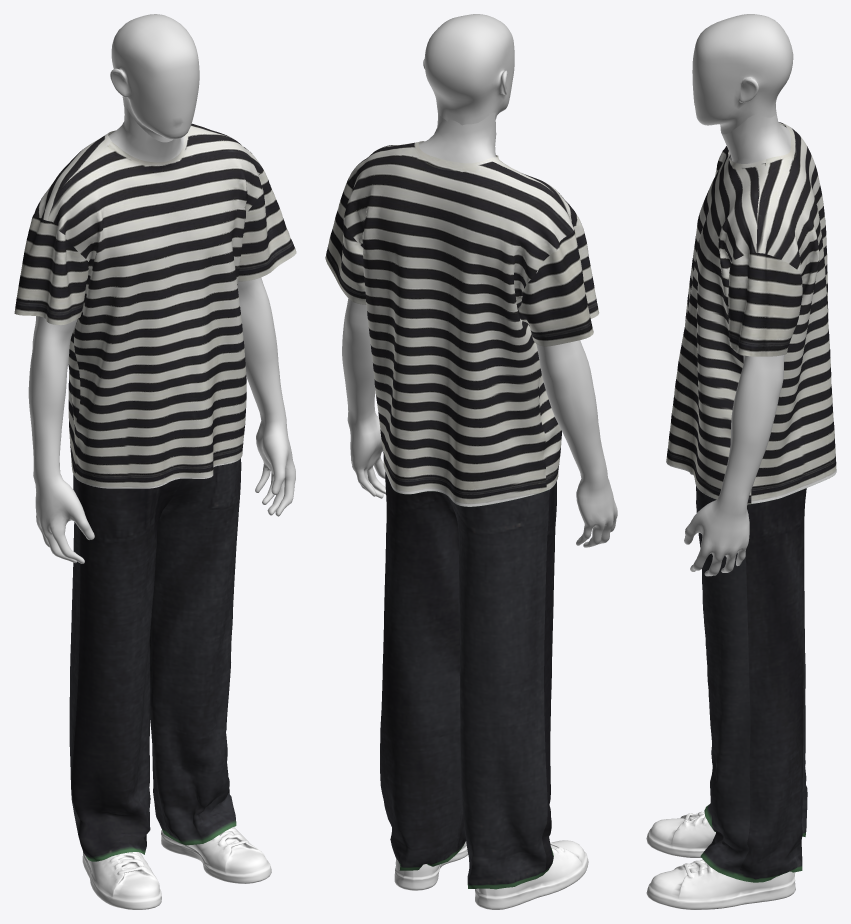
3 renders of one model, left to right at view 1: azimuth 30°, elevation 25°; view 2: azimuth 150°, elevation 25°; view 3: azimuth 270°, elevation 25°, orthographic. The views are drawn at different scales.
Parts seen in each view (by area): view 1: tshirt_3, body_3_0, shoes_r_Shape_2, shoes_l_Shape_1; view 2: tshirt_3, body_3_0, shoes_r_Shape_2, shoes_l_Shape_1; view 3: tshirt_3, body_3_0, shoes_l_Shape_1, shoes_r_Shape_2.
Boxes of the visible parts, x1,y1,x2,y2 form: tshirt_3: [14, 123, 296, 861]; body_3_0: [28, 14, 295, 563]; shoes_r_Shape_2: [82, 852, 161, 909]; shoes_l_Shape_1: [161, 827, 271, 883]; tshirt_3: [325, 141, 599, 889]; body_3_0: [342, 14, 617, 547]; shoes_r_Shape_2: [475, 840, 588, 909]; shoes_l_Shape_1: [394, 841, 468, 890]; tshirt_3: [666, 122, 836, 882]; body_3_0: [684, 14, 793, 576]; shoes_l_Shape_1: [646, 859, 795, 909]; shoes_r_Shape_2: [646, 811, 715, 857].
Size of the model in its own units: 0.6357 by 1.9 by 0.3829.
3 materials, 1 textured.
